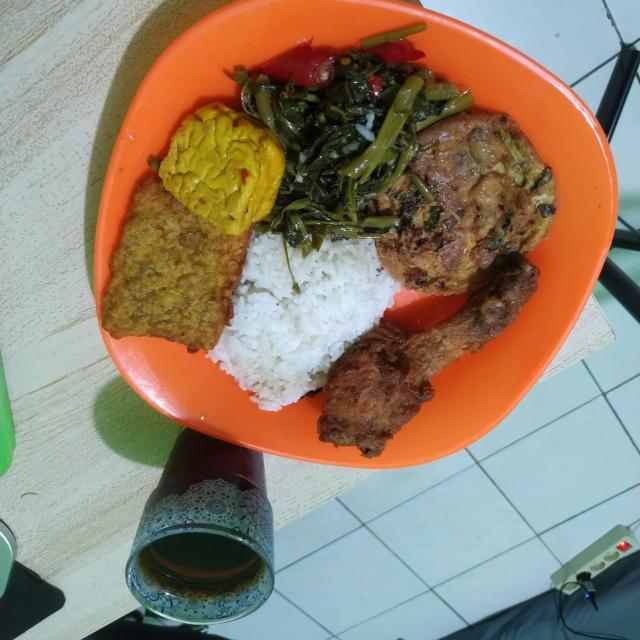ayam_goreng: (286, 261, 572, 475)
nasi_putih: (162, 224, 398, 438)
telur_ayam_dadar: (341, 115, 569, 335)
